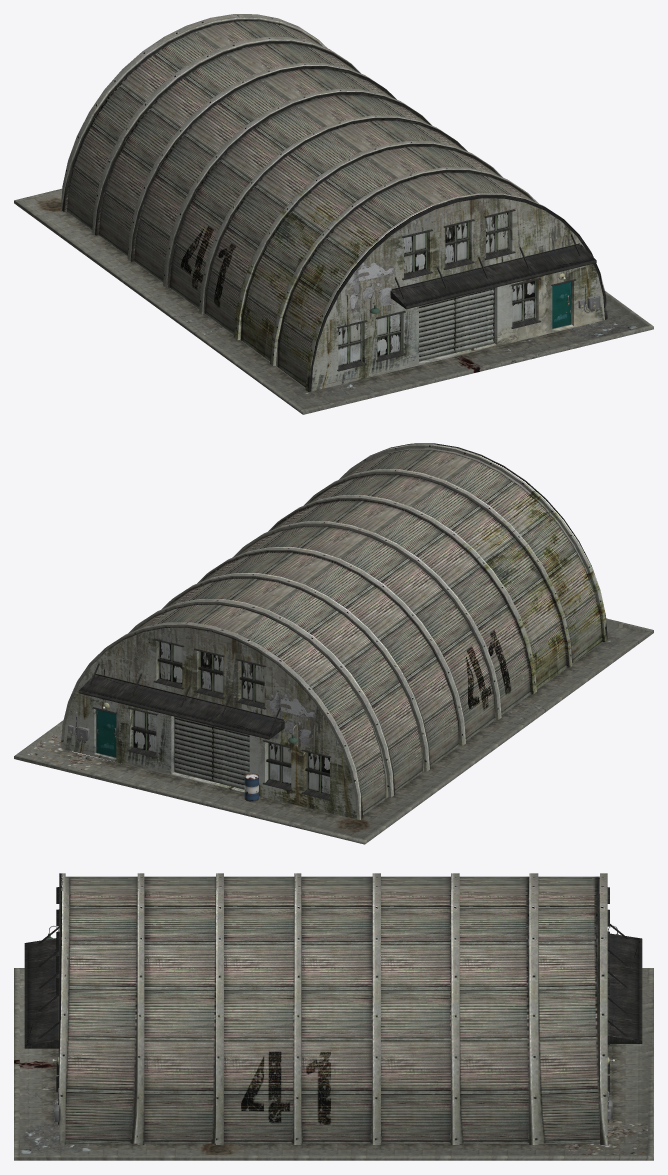
The picture shows the model from 3 angles, top to bottom: view 1: azimuth 30°, elevation 25°; view 2: azimuth 150°, elevation 25°; view 3: azimuth 270°, elevation 25°; orthographic projection. The views are drawn at different scales.
Parts seen in each view (by area): view 1: main, sidewalk, trim; view 2: main, sidewalk, trim; view 3: main, sidewalk, trim.
Part boxes in pixels (box(x1,y1,x2,y2)): main: box(60, 14, 607, 391); sidewalk: box(14, 188, 653, 414); trim: box(337, 209, 596, 371); main: box(60, 443, 607, 820); sidewalk: box(14, 618, 653, 844); trim: box(78, 638, 331, 800); main: box(59, 873, 607, 1144); sidewalk: box(14, 968, 653, 1160); trim: box(24, 887, 642, 1092).
Bounding box in the file's own units: 1922 × 827 × 2744.
Materials: 7 (7 with a texture image).
